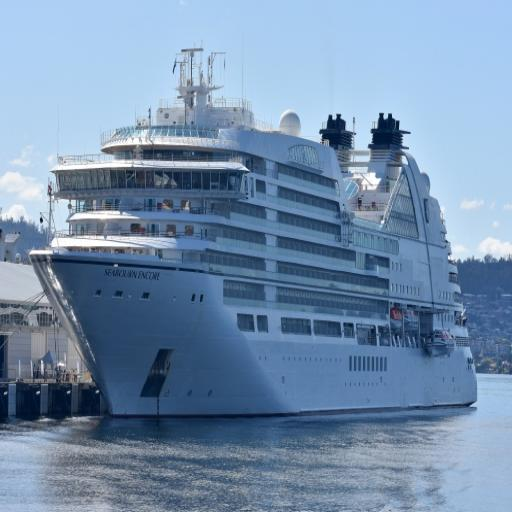cruises: (27, 42, 480, 429)
